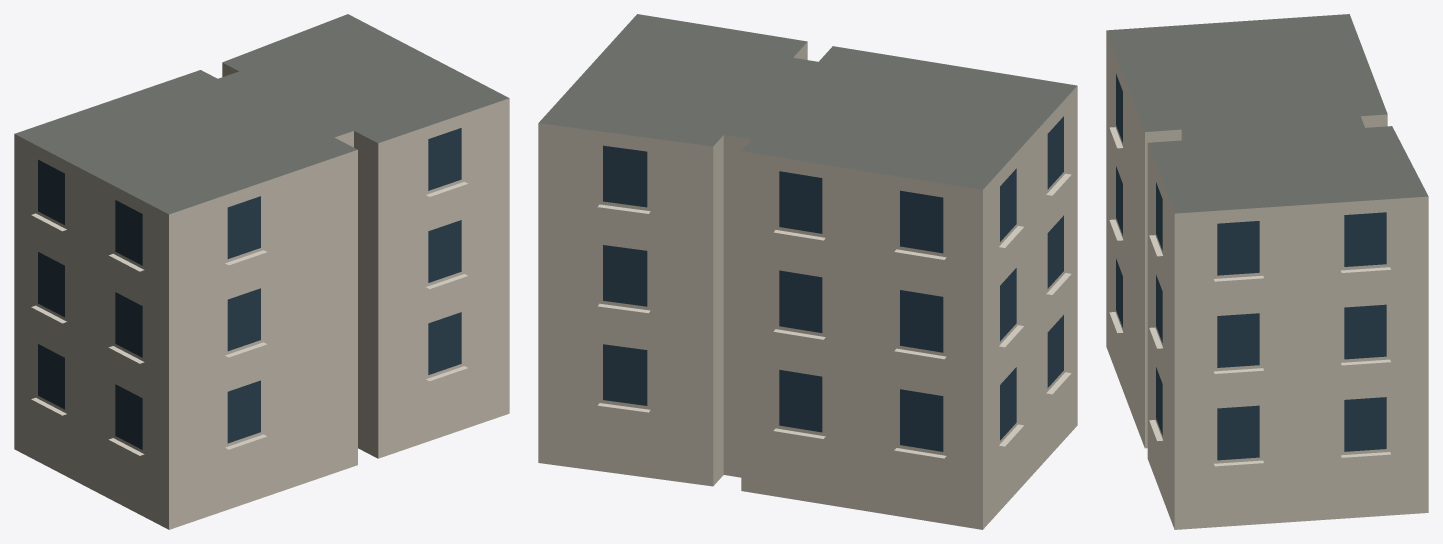
3 views of the same model, side by side, from view 1: azimuth 30°, elevation 25°; view 2: azimuth 150°, elevation 25°; view 3: azimuth 270°, elevation 25° (orthographic). The views are drawn at different scales.
Parts seen in each view (by area): view 1: Footprint 0, Inferred window bays, Window sills; view 2: Footprint 0, Inferred window bays, Window sills; view 3: Footprint 0, Inferred window bays, Window sills.
Boxes of the visible parts, x1=… form: Footprint 0: x1=14, y1=14, x2=509, y2=529; Inferred window bays: x1=38, y1=128, x2=461, y2=449; Window sills: x1=31, y1=182, x2=467, y2=455; Footprint 0: x1=538, y1=14, x2=1077, y2=529; Inferred window bays: x1=603, y1=116, x2=1063, y2=451; Window sills: x1=598, y1=173, x2=1071, y2=458; Footprint 0: x1=1106, y1=14, x2=1428, y2=529; Inferred window bays: x1=1116, y1=74, x2=1386, y2=460; Window sills: x1=1109, y1=127, x2=1390, y2=466.
Size of the model in its own units: 13.71 by 10.04 by 9.28.
